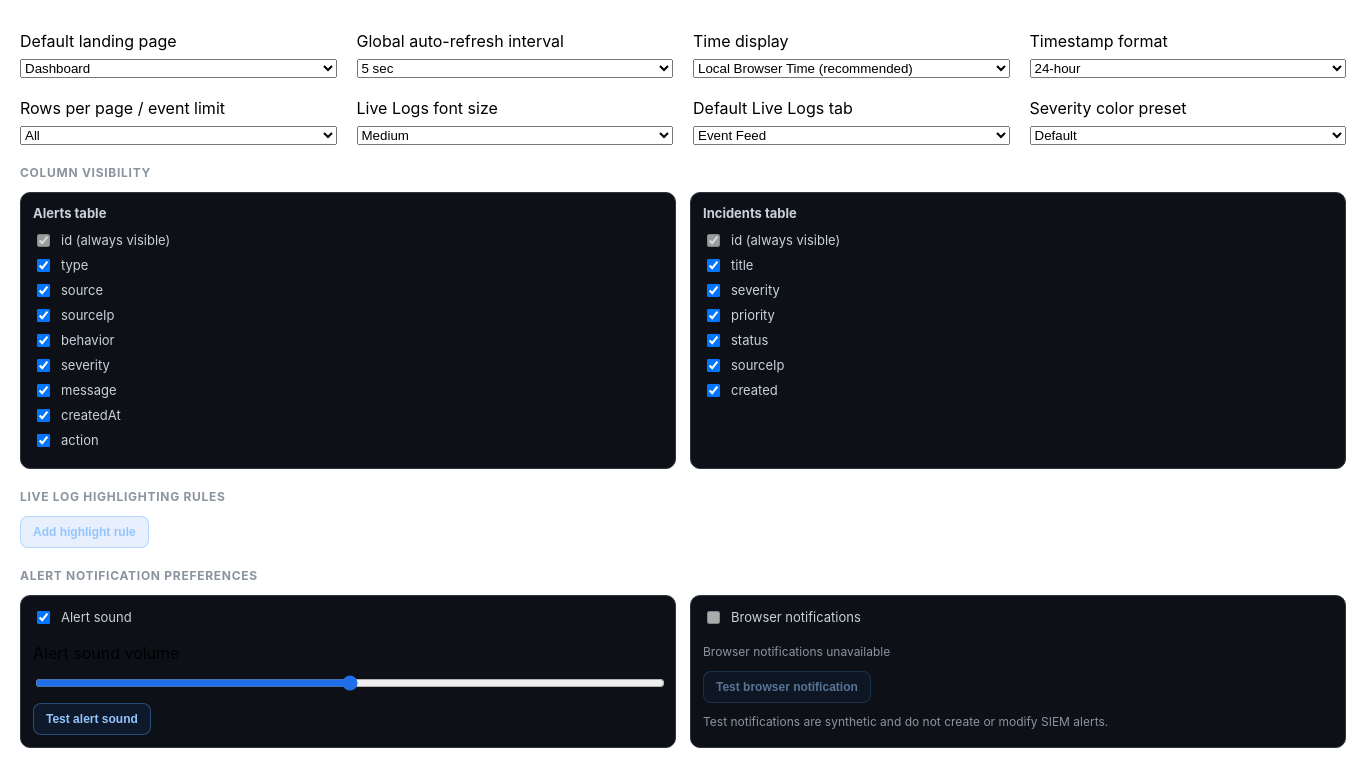
alert sound test handles playback failure
The width and height of the screenshot is (1366, 768).
(page scrolled)
Click the button "Test alert sound".
click(92, 719)  # box [33,703,151,735]
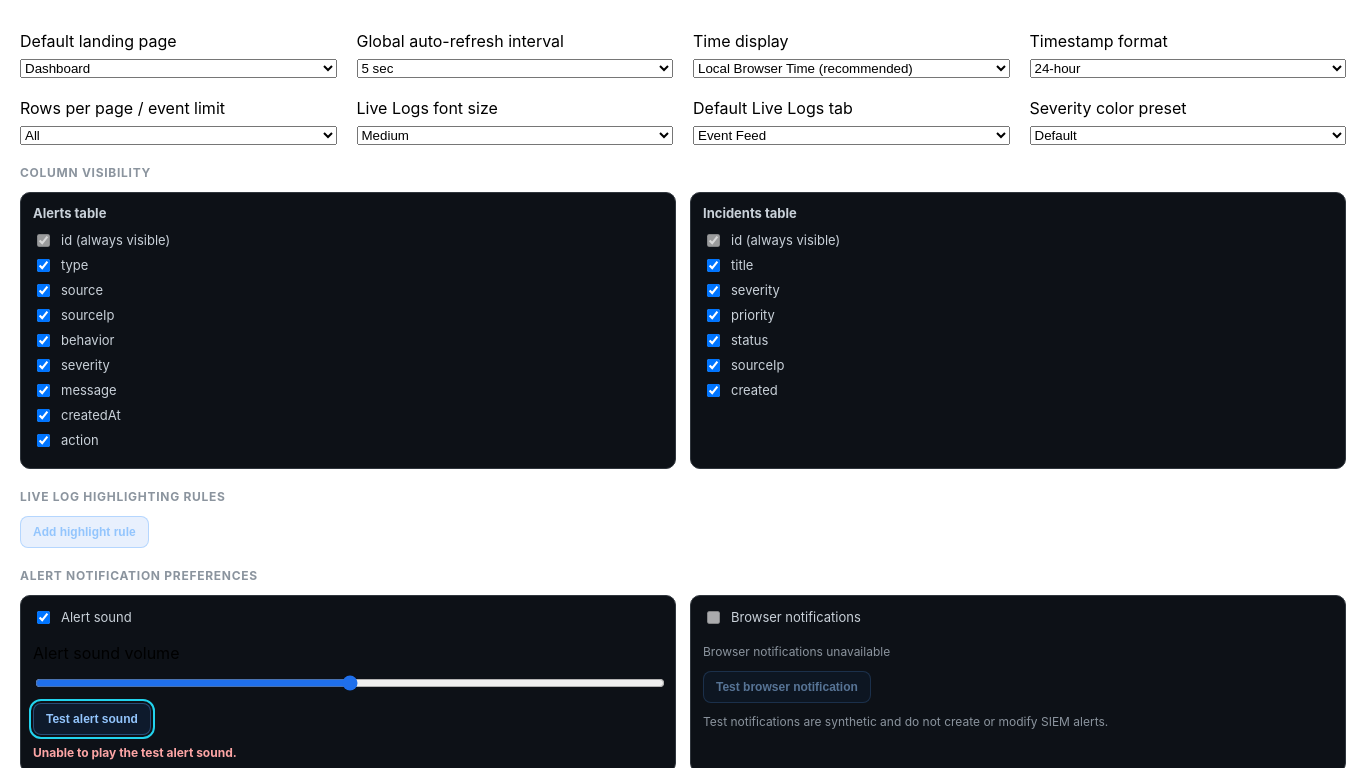
Check: the text "Unable to play the test alert sound." is shown, box [33,745,237,760]
